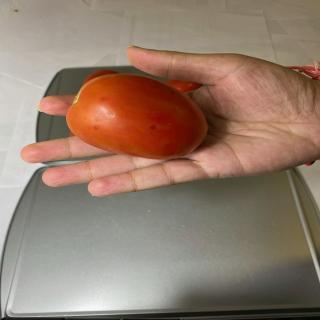Chilli: (65, 72, 208, 160)
